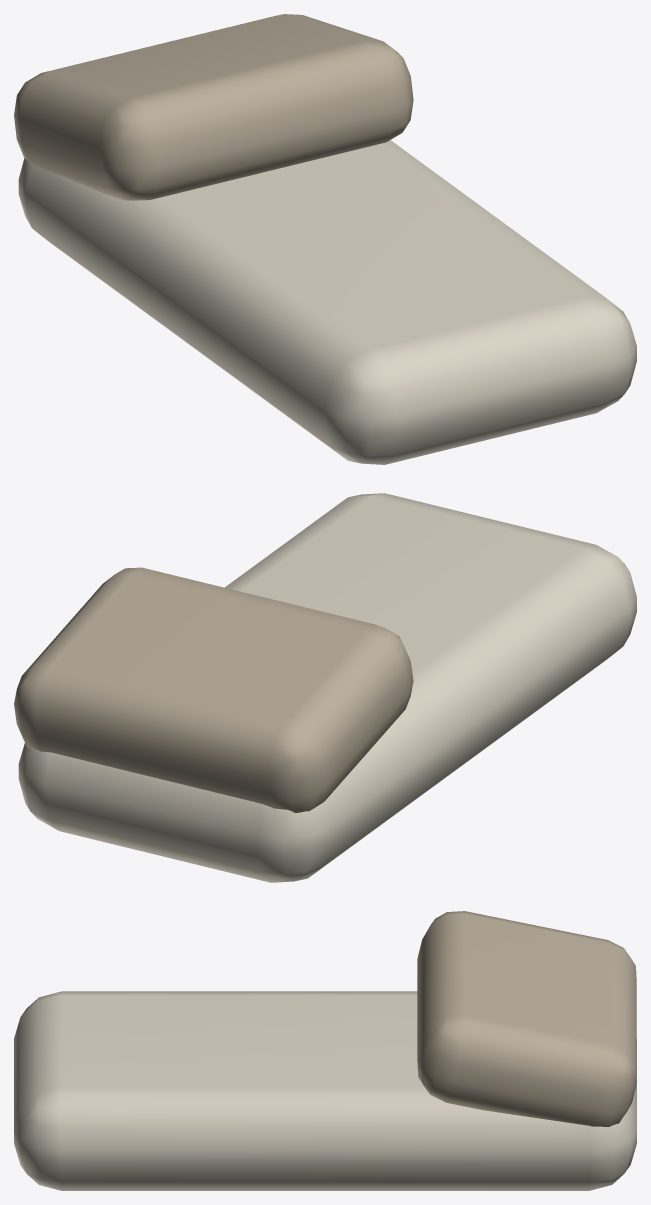
The model's file is chaise.glb.
The picture shows the model from 3 angles, top to bottom: view 1: azimuth 30°, elevation 25°; view 2: azimuth 150°, elevation 25°; view 3: azimuth 270°, elevation 25°; orthographic projection. The views are drawn at different scales.
Parts seen in each view (by area): view 1: Outdoor chaise.002, Chaise headrest.002; view 2: Outdoor chaise.002, Chaise headrest.002; view 3: Outdoor chaise.002, Chaise headrest.002.
Part boxes in pixels (x1=…): Outdoor chaise.002: x1=18, y1=140, x2=636, y2=464; Chaise headrest.002: x1=14, y1=14, x2=413, y2=200; Outdoor chaise.002: x1=18, y1=493, x2=636, y2=882; Chaise headrest.002: x1=14, y1=567, x2=413, y2=813; Outdoor chaise.002: x1=14, y1=991, x2=636, y2=1190; Chaise headrest.002: x1=417, y1=911, x2=636, y2=1126.
Size of the model in its own units: 0.8501 by 0.5304 by 1.7.
